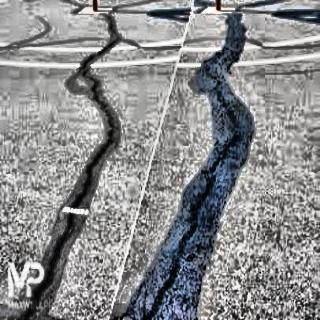crack: (132, 13, 254, 320), (8, 6, 119, 320)
